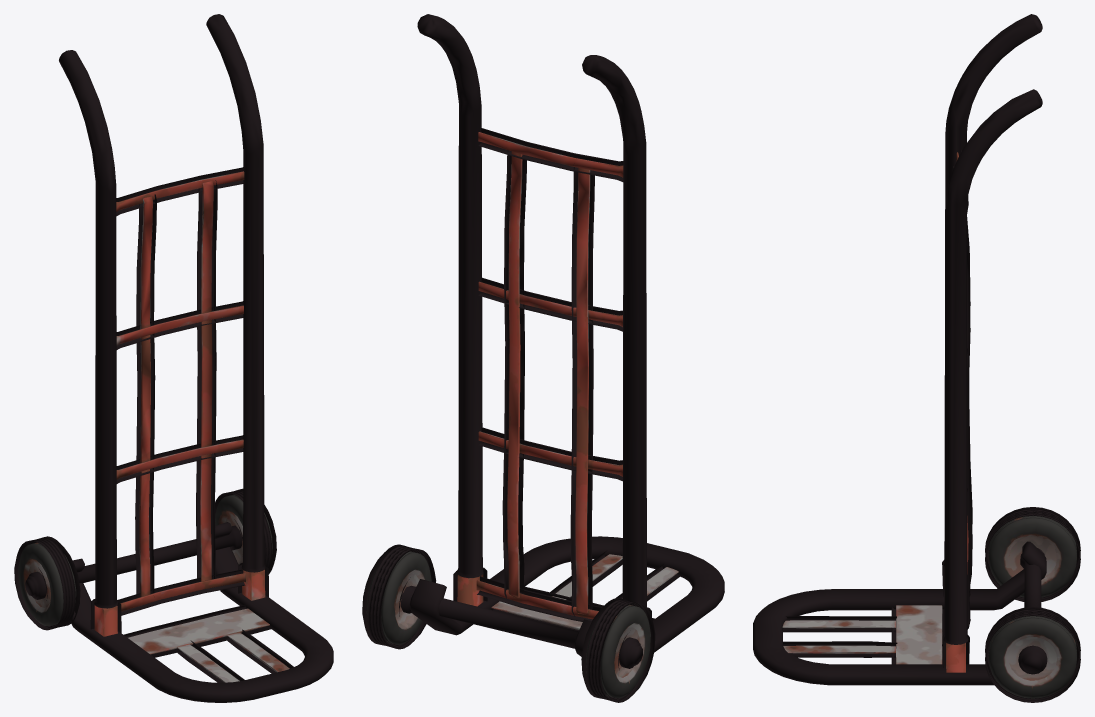
The model's file is SM_Int_HandTruck.fbx.
3 renders of one model, left to right at view 1: azimuth 30°, elevation 25°; view 2: azimuth 150°, elevation 25°; view 3: azimuth 270°, elevation 25°, orthographic. The views are drawn at different scales.
Parts seen in each view (by area): view 1: SM_Int_HandTruck; view 2: SM_Int_HandTruck; view 3: SM_Int_HandTruck.
Boxes of the visible parts, left/top/right/bottom form: SM_Int_HandTruck: left=14, top=14, right=333, bottom=702; SM_Int_HandTruck: left=362, top=14, right=724, bottom=702; SM_Int_HandTruck: left=753, top=14, right=1080, bottom=702.
Size of what is drawn, in the model's own units: 0.5181 by 1.21 by 0.607.
